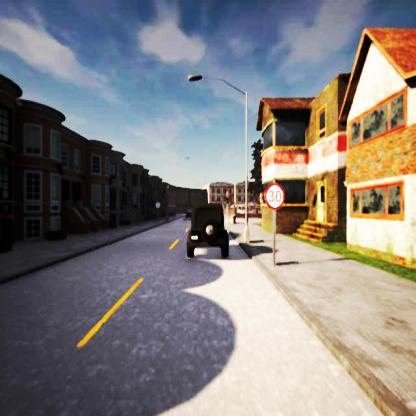vehicle: (187, 203, 231, 257)
